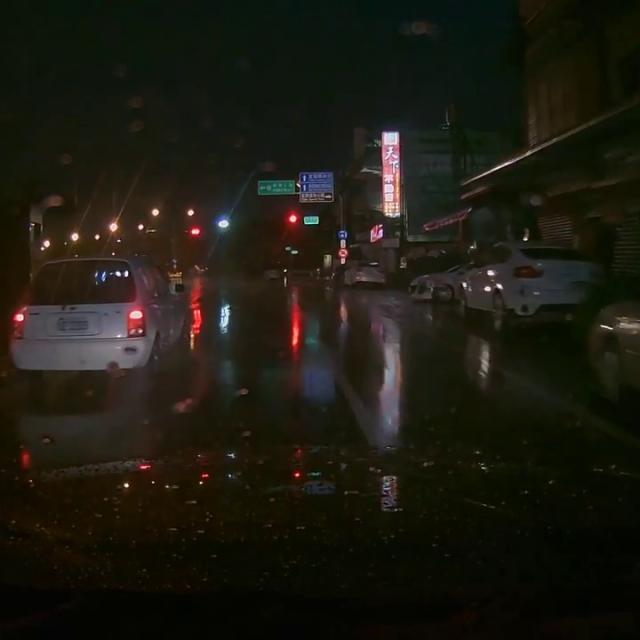Car: (5, 251, 191, 378), (456, 237, 611, 335), (588, 300, 639, 407), (404, 260, 462, 307), (339, 257, 384, 287)
